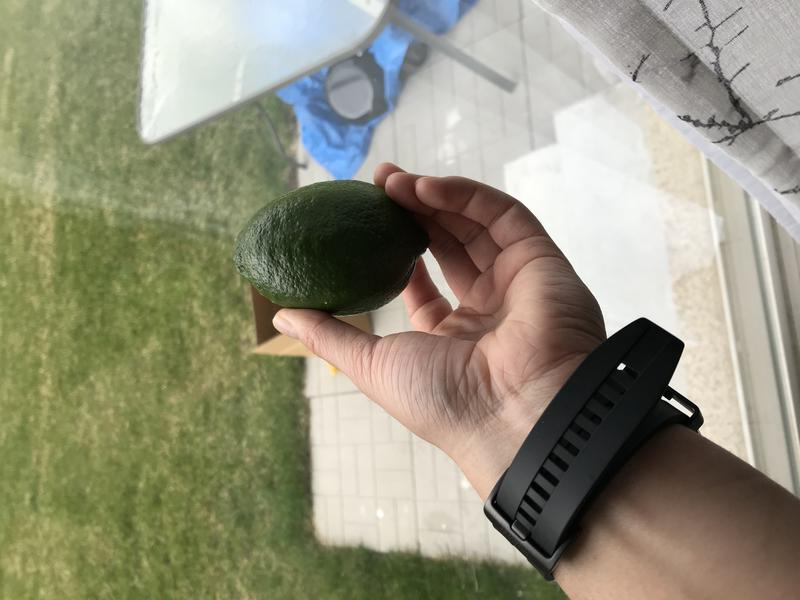lime: (226, 169, 447, 324)
